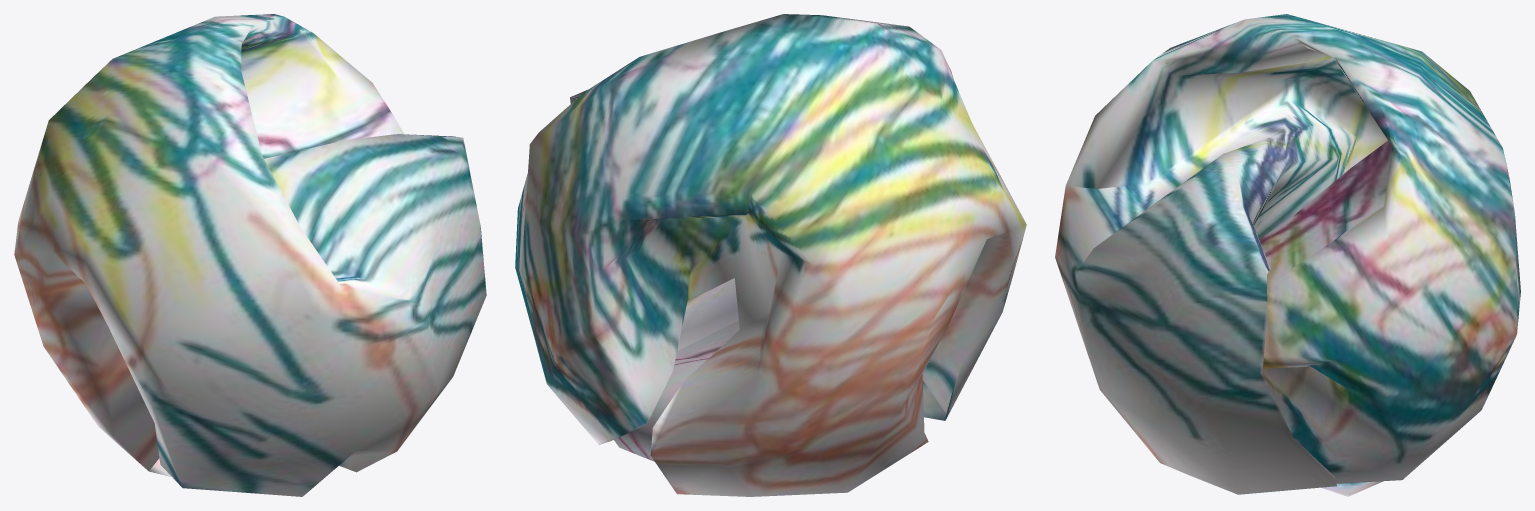
File: doodlePaper.fbx
3 views of the same model, side by side, from view 1: azimuth 30°, elevation 25°; view 2: azimuth 150°, elevation 25°; view 3: azimuth 270°, elevation 25° (orthographic). The views are drawn at different scales.
Visible parts, largest first — view 1: doodlePaper; view 2: doodlePaper; view 3: doodlePaper.
Boxes of the visible parts, x1,y1,x2,y2 form: doodlePaper: [14, 14, 486, 496]; doodlePaper: [515, 14, 1026, 496]; doodlePaper: [1055, 14, 1520, 496].
Bounding box in the file's own units: 84.82 × 82.31 × 83.93.
1 material, 1 textured.
